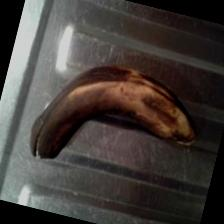Banana Rotten: (0, 60, 206, 191)
